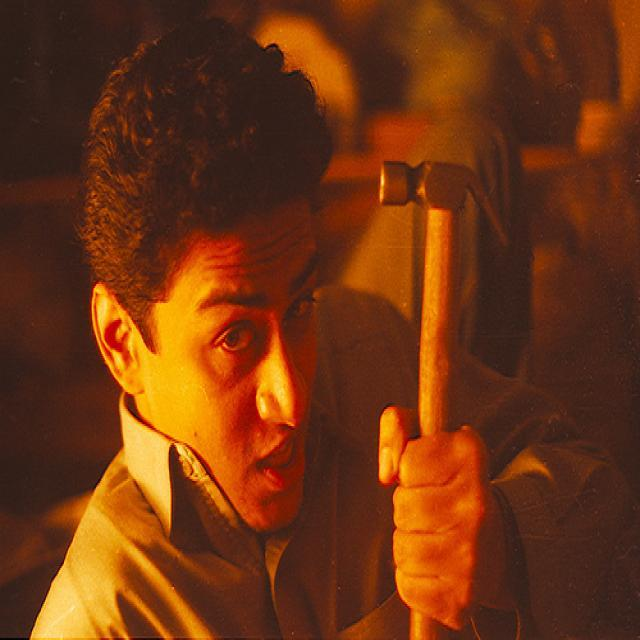hammer: (359, 142, 518, 640)
